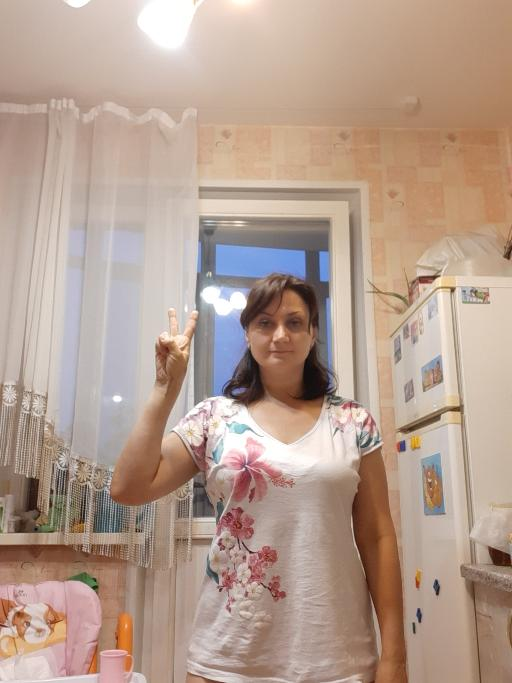peace: (152, 306, 199, 384)
